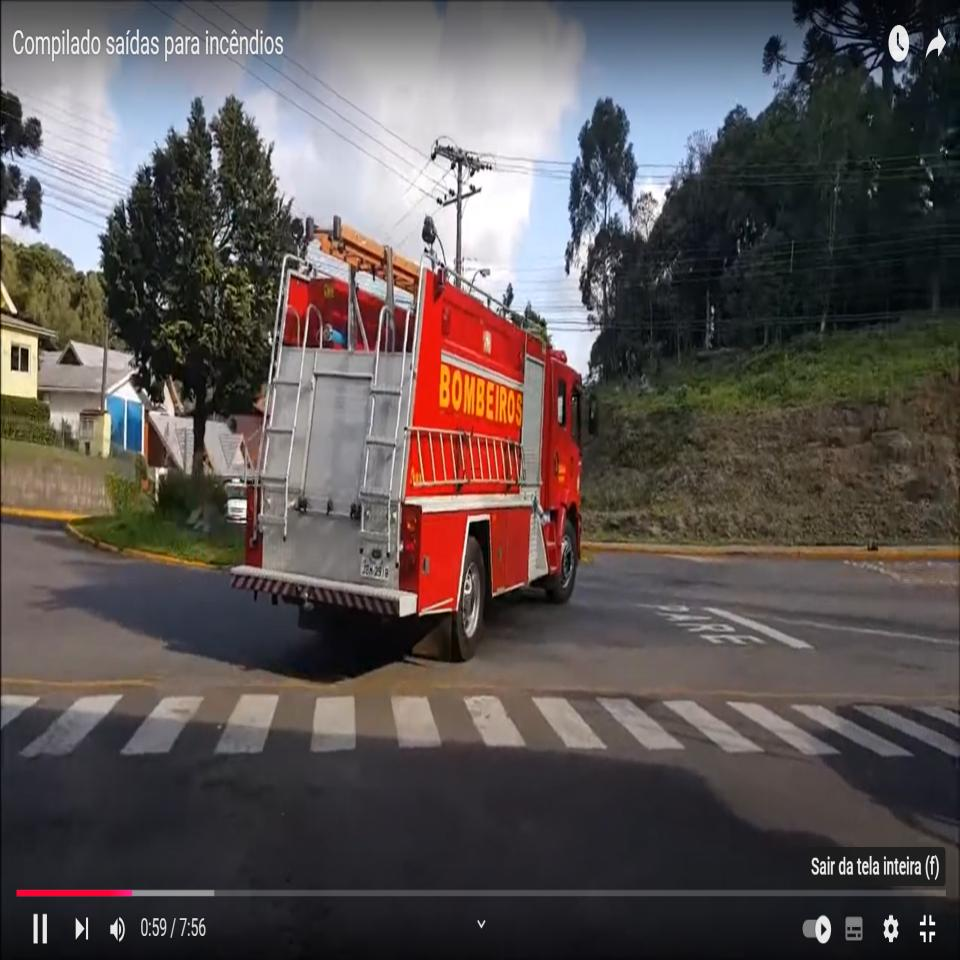viatura: (229, 216, 601, 668)
